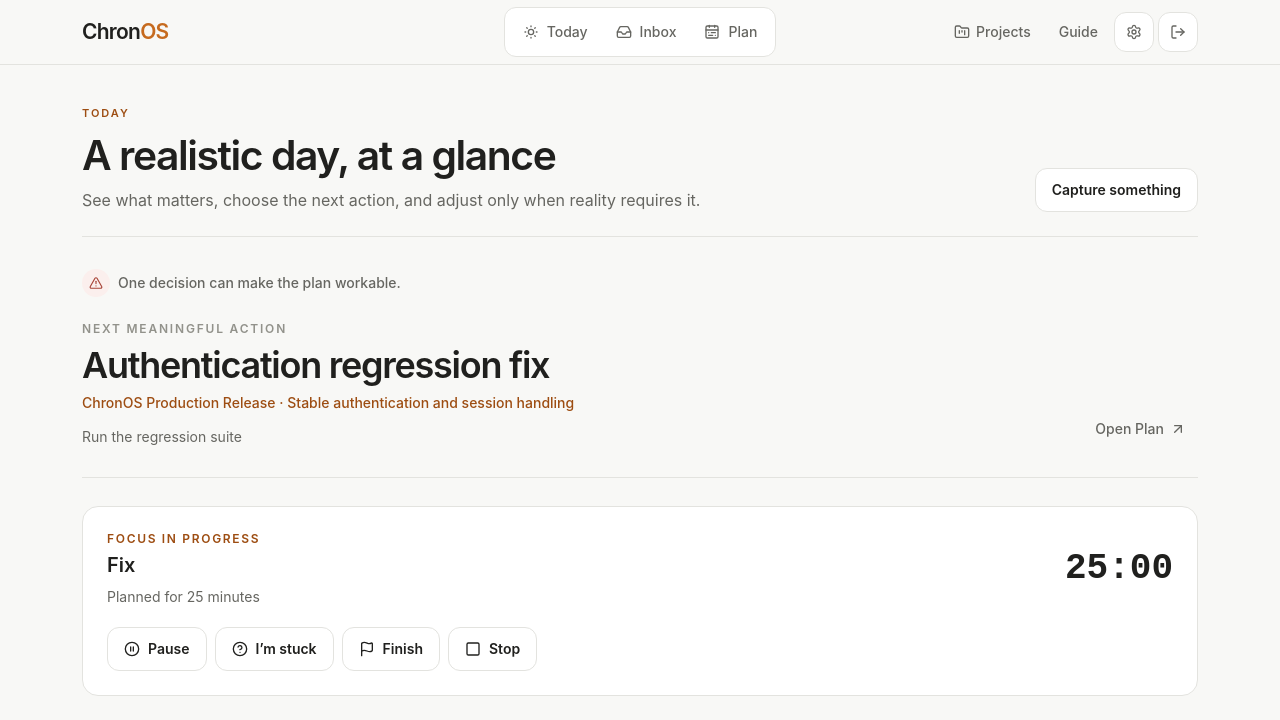
Test: shows the deterministic stuck options
This screenshot has width=1280, height=720.
Click the button "I’m stuck" at (274, 650), box [214,628,334,672]
(page scrolled)
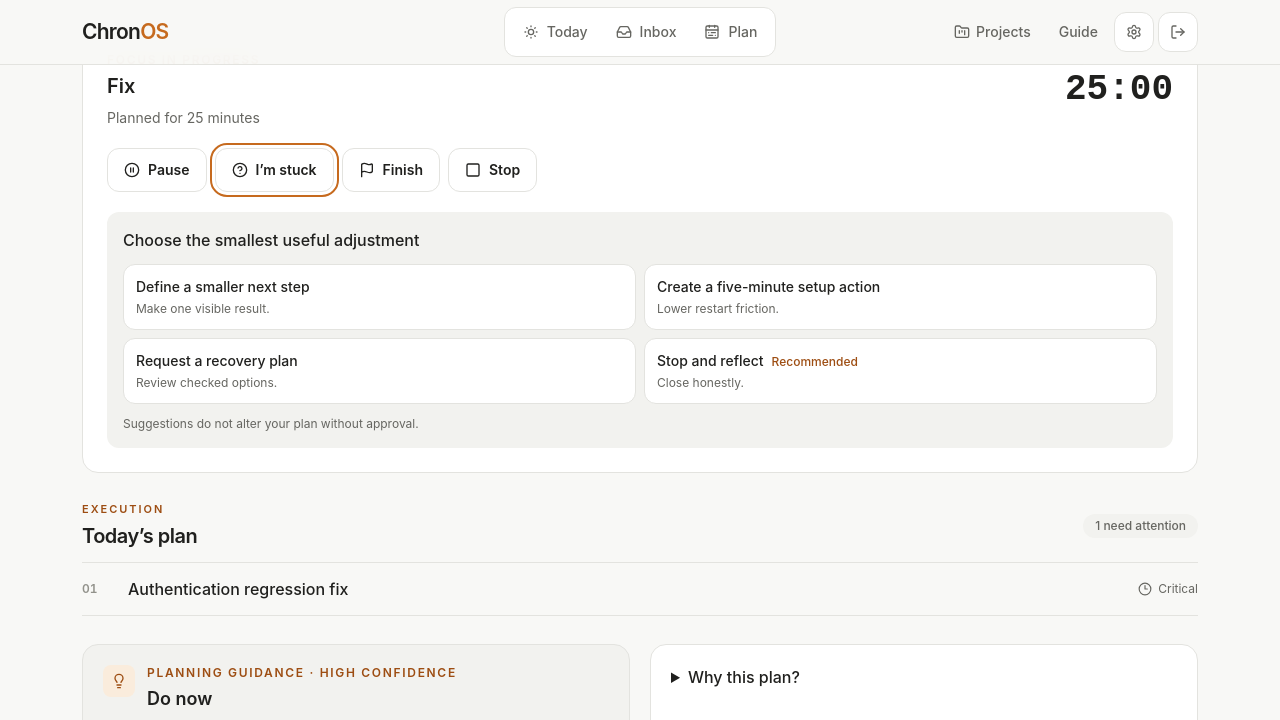
Expected: the text "Create a five-minute setup action" is shown, [657,278,880,296]
Expected: the text "Request a recovery plan" is shown, [136,352,298,370]
Expected: the text "Stop and reflect" is shown, [657,352,764,370]
